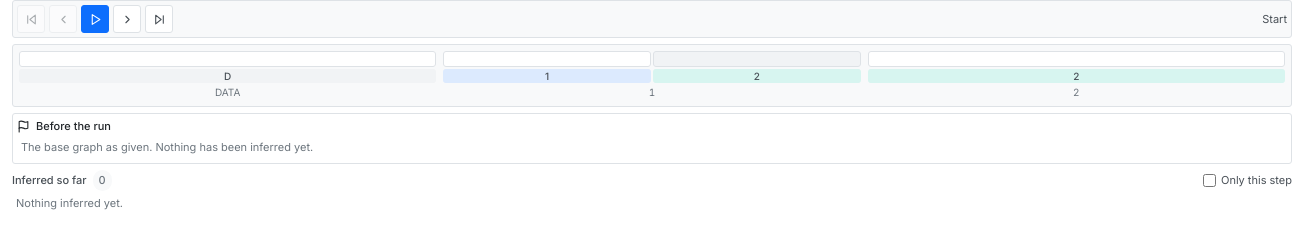
Test: RuleSetExecutionReplay › pauses when a tick is clicked mid-play
Click the button with test id "replay-play".
click(95, 19)  # box [81, 5, 109, 33]
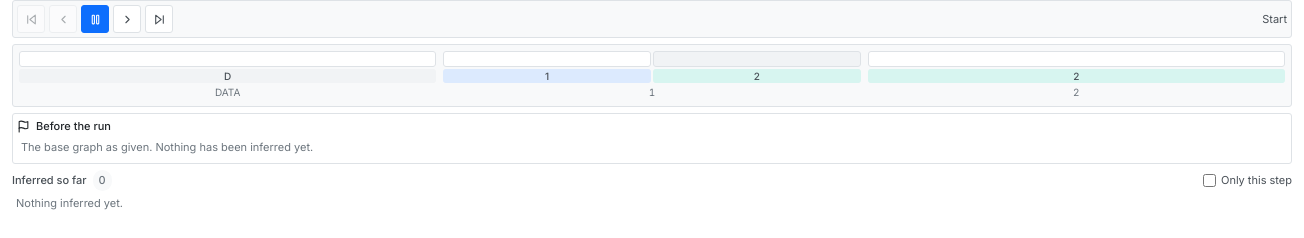
Click the 1st button with class "step-cell".
click(228, 59)  # box [19, 51, 436, 67]
Wait 2800 ms
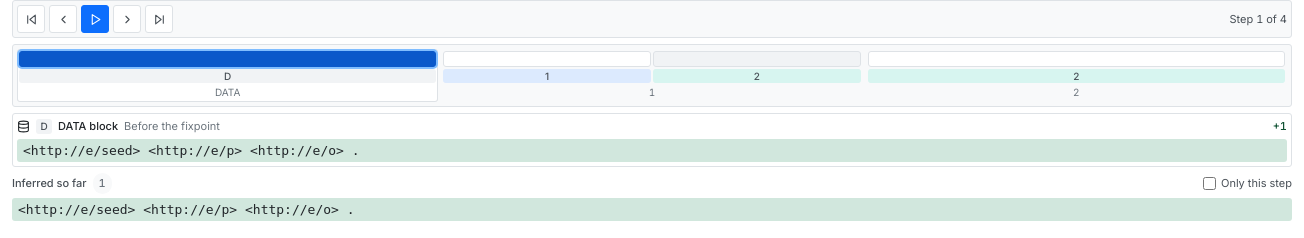
Now the text with test id "replay-position" reads "Step 1 of 4", box [1230, 12, 1287, 26]
